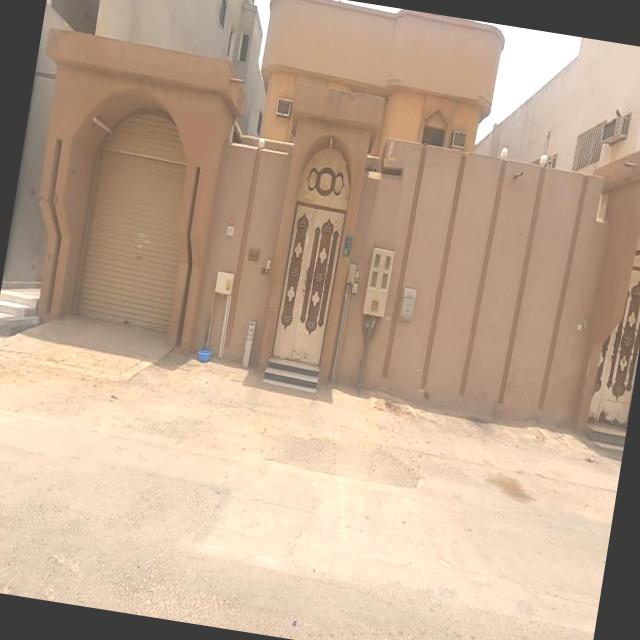debris: (170, 292, 239, 404)
